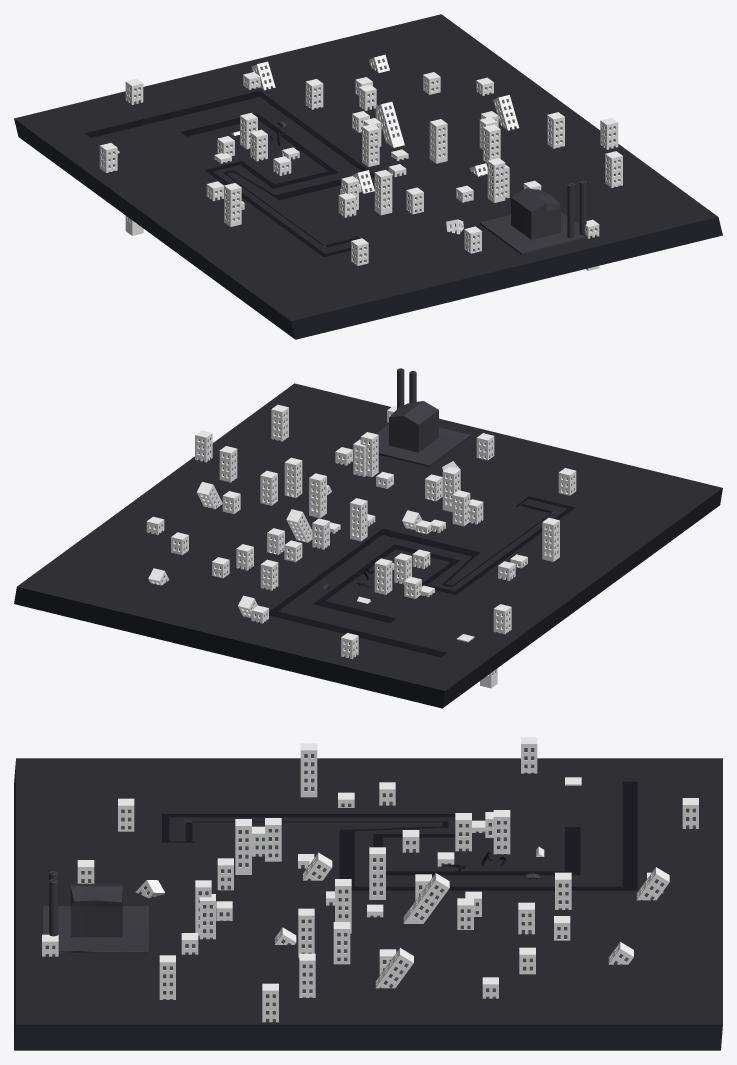
The model's file is mati1029.fbx.
3 renders of one model, top to bottom at view 1: azimuth 30°, elevation 25°; view 2: azimuth 150°, elevation 25°; view 3: azimuth 270°, elevation 25°, orthographic. The views are drawn at different scales.
Parts seen in each view (by area): view 1: Cylinder.003, Cube.008, Cube.005, Cube.004, Cube.001, Cube.009, Cube.003, Cube.041, Cube.022, Cube.019, Cube.023, Cube.018 (+1 smaller); view 2: Cylinder.003, Cube.001, Cube.009, Cube.003, Cube.041, Cube.008, Cube.019, Cube.007, Cube.004, Cube.022, Cube.027, Cube.005 (+1 smaller); view 3: Cylinder.003, Cube.005, Cube.009, Cube.008, Cube.003, Cube.023, Cube.007, Cube.041, Cube.021, Cube.019, Cube.022, Cube.001 (+13 smaller).
Part boxes in pixels (x1,y1,x2,y2): Cylinder.003: (14, 14, 722, 339); Cube.008: (374, 169, 392, 215); Cube.005: (376, 101, 404, 147); Cube.004: (487, 158, 505, 202); Cube.001: (429, 119, 447, 163); Cube.009: (224, 183, 241, 226); Cube.003: (362, 124, 379, 166); Cube.041: (483, 124, 500, 163); Cube.022: (605, 151, 622, 187); Cube.019: (547, 112, 564, 148); Cube.023: (493, 95, 519, 130); Cube.018: (600, 117, 618, 149); Cylinder.003: (14, 368, 722, 708); Cube.001: (309, 473, 326, 518); Cube.009: (542, 517, 559, 561); Cube.003: (350, 498, 367, 541); Cube.041: (284, 457, 302, 497); Cube.008: (442, 467, 460, 512); Cube.019: (219, 446, 237, 482); Cube.007: (374, 558, 392, 594); Cube.004: (360, 432, 378, 477); Cube.022: (271, 404, 288, 441); Cube.027: (452, 490, 470, 526); Cube.005: (286, 509, 312, 542); Cylinder.003: (14, 758, 722, 1050); Cube.005: (403, 873, 449, 923); Cube.009: (300, 743, 317, 797); Cube.008: (235, 819, 251, 874); Cube.003: (369, 847, 385, 899); Cube.023: (375, 948, 413, 988); Cube.007: (493, 810, 510, 854); Cube.041: (298, 908, 314, 957); Cube.021: (333, 922, 350, 964); Cube.019: (299, 953, 315, 997); Cube.022: (159, 955, 175, 999); Cube.001: (335, 879, 351, 933).
Size of the model in its own units: 94148 by 27494 by 105108.
2 materials, 2 textured.
